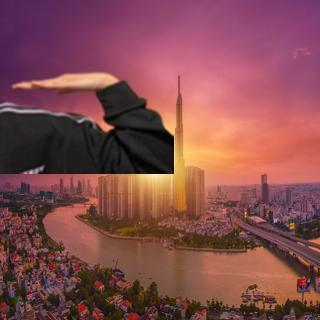Wait: (6, 64, 120, 97)
